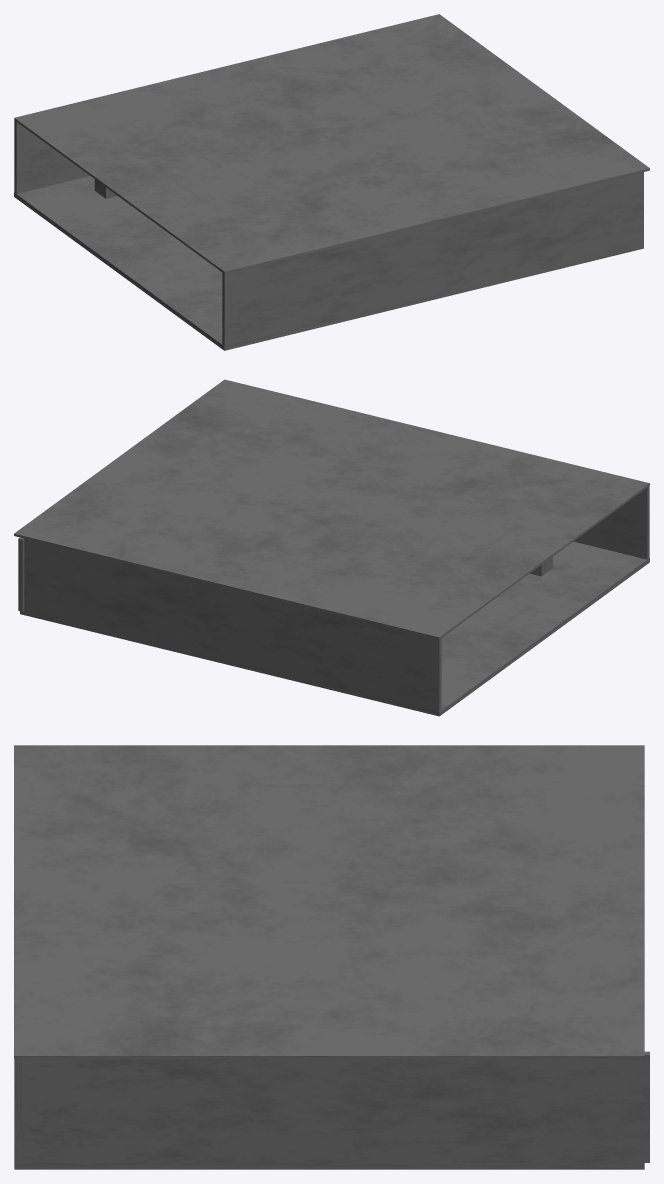
Rendered from 22_mixed_era_ramp.glb.
3 views of the same model, one above another, from view 1: azimuth 30°, elevation 25°; view 2: azimuth 150°, elevation 25°; view 3: azimuth 270°, elevation 25° (orthographic). The views are drawn at different scales.
Visible parts, largest first — view 1: Cube.100, Cube.114, Cube.079, Cube.113; view 2: Cube.100, Cube.113, Cube.079, Cube.114, Cube.115; view 3: Cube.100, Cube.115, Cube.079, Cube.114.
Part boxes in pixels (x1,y1,x2,y2): Cube.100: (14, 14, 649, 273); Cube.114: (222, 172, 643, 346); Cube.079: (14, 176, 643, 350); Cube.113: (14, 120, 89, 193); Cube.100: (14, 379, 649, 639); Cube.113: (24, 538, 441, 711); Cube.079: (20, 541, 649, 716); Cube.114: (574, 486, 649, 559); Cube.115: (18, 537, 24, 611); Cube.100: (14, 745, 644, 1059); Cube.115: (22, 1051, 649, 1162); Cube.079: (14, 1163, 644, 1169); Cube.114: (14, 1059, 21, 1162).
Bounding box in the file's own units: 196 × 34.84 × 170.
2 materials, 1 textured.
